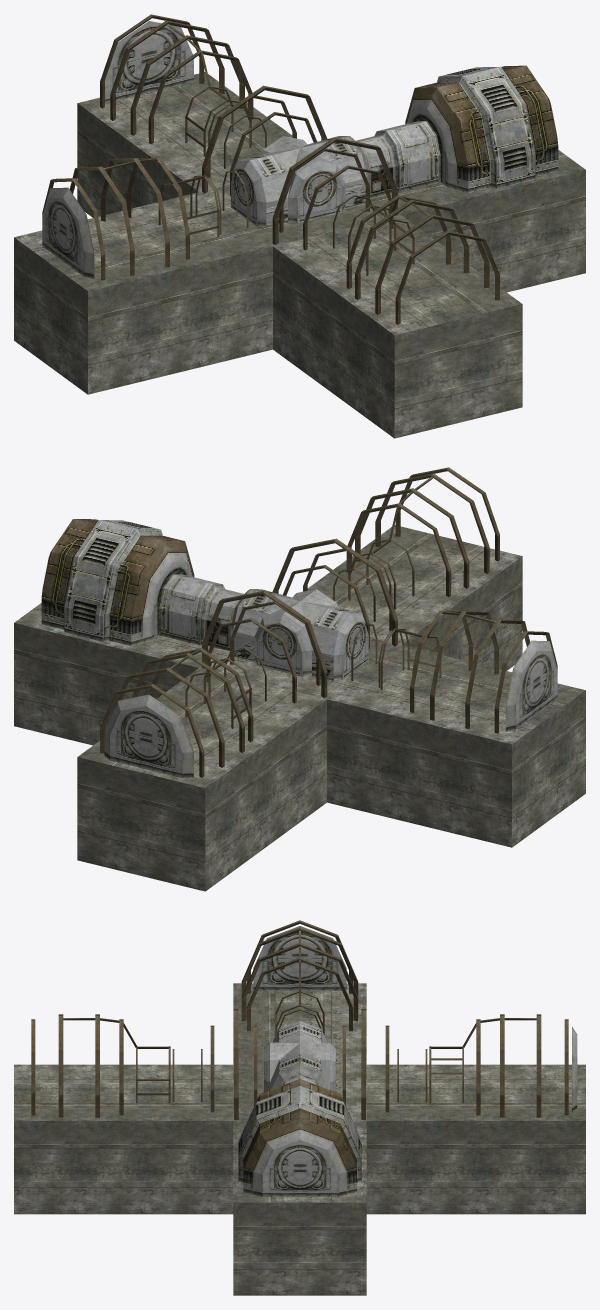
File: ins_shield_generator_const_1_l1.fbx
The picture shows the model from 3 angles, top to bottom: view 1: azimuth 30°, elevation 25°; view 2: azimuth 150°, elevation 25°; view 3: azimuth 270°, elevation 25°; orthographic projection. The views are drawn at different scales.
Parts seen in each view (by area): view 1: mesh_node; view 2: mesh_node; view 3: mesh_node.
Boxes of the visible parts, left/top/right/bottom form: mesh_node: left=14, top=14, right=585, bottom=438; mesh_node: left=14, top=467, right=585, bottom=891; mesh_node: left=14, top=920, right=585, bottom=1295.
Bounding box in the file's own units: 15.76 × 5.88 × 17.39.
